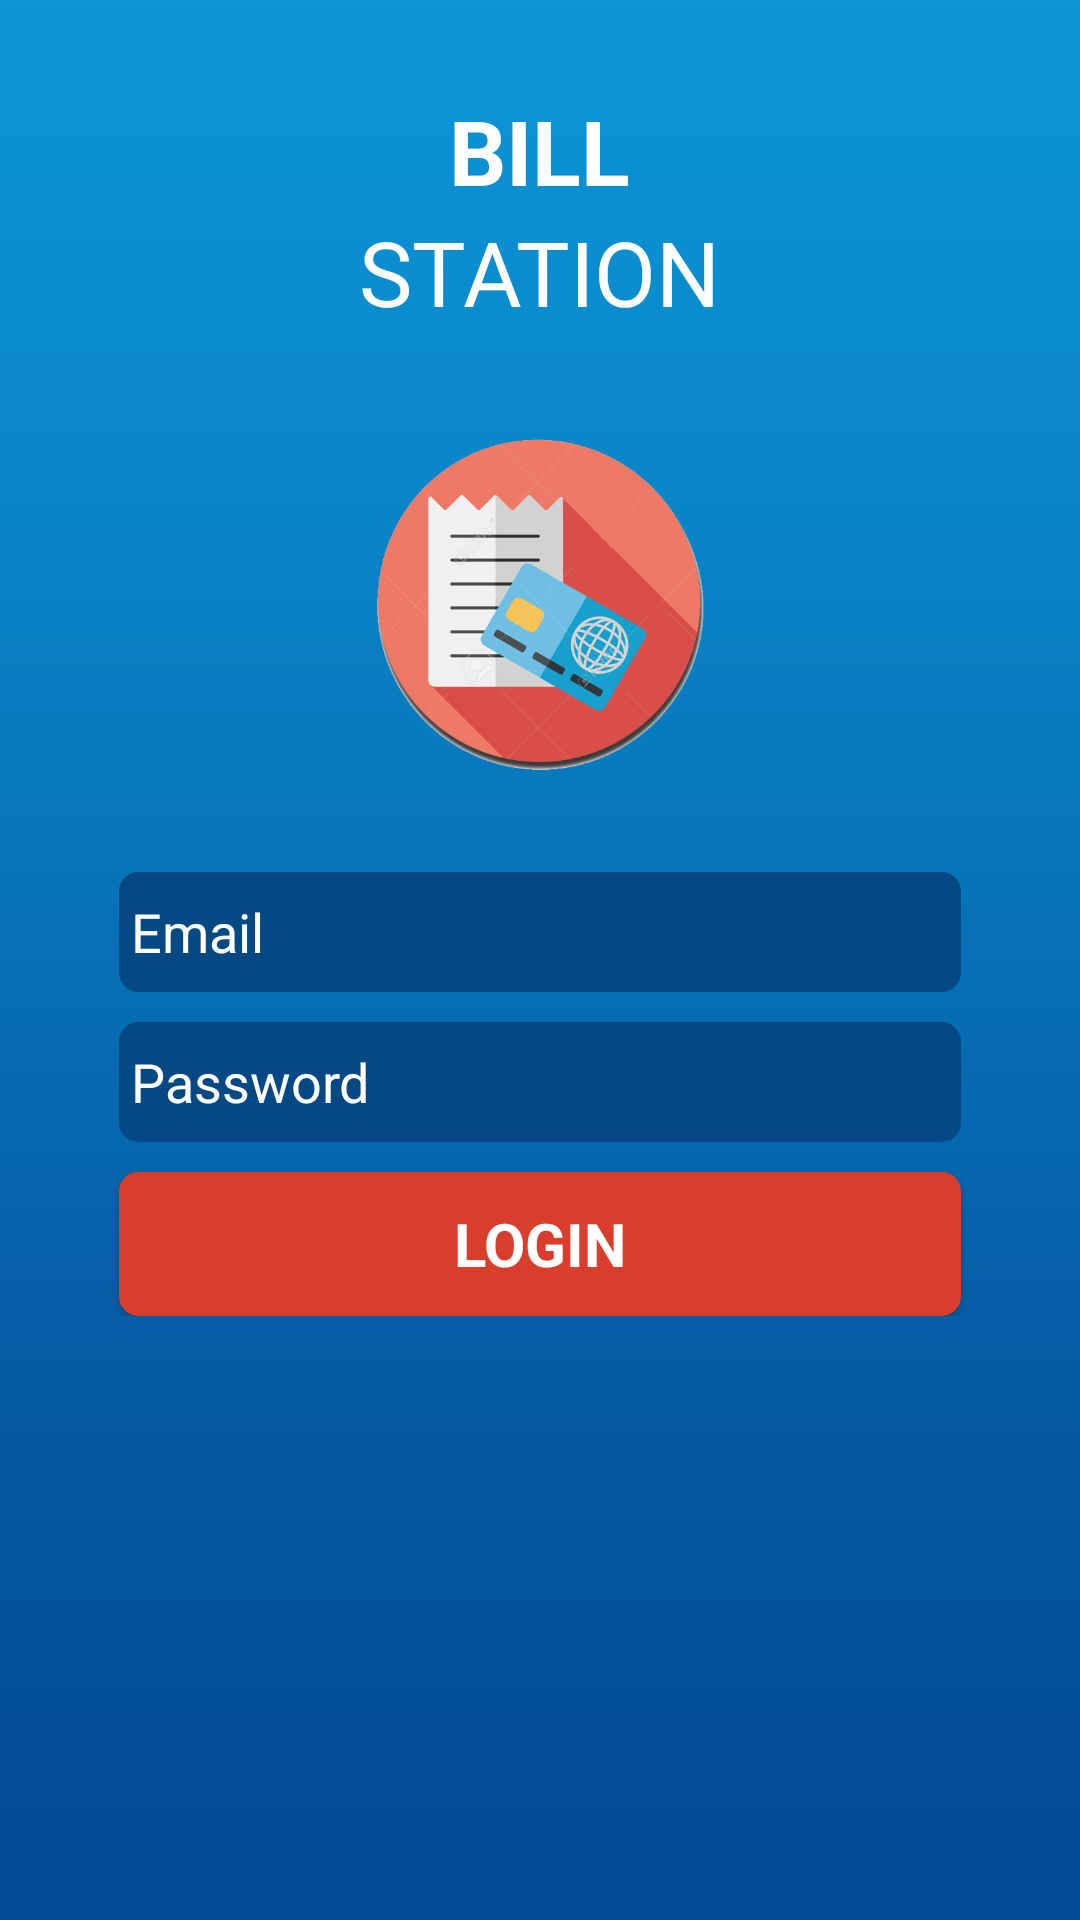

Where icons sit on this 1080px×1920px app screen, as (x1, y1, x2, y2):
mainicon: (377, 439, 704, 770)
